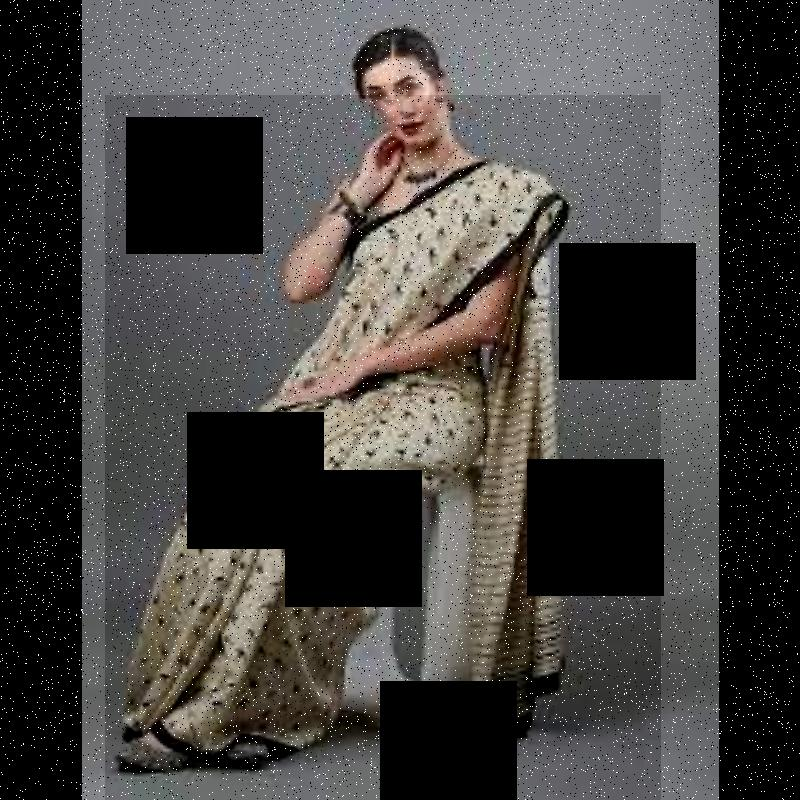Saree: (105, 95, 661, 800)
